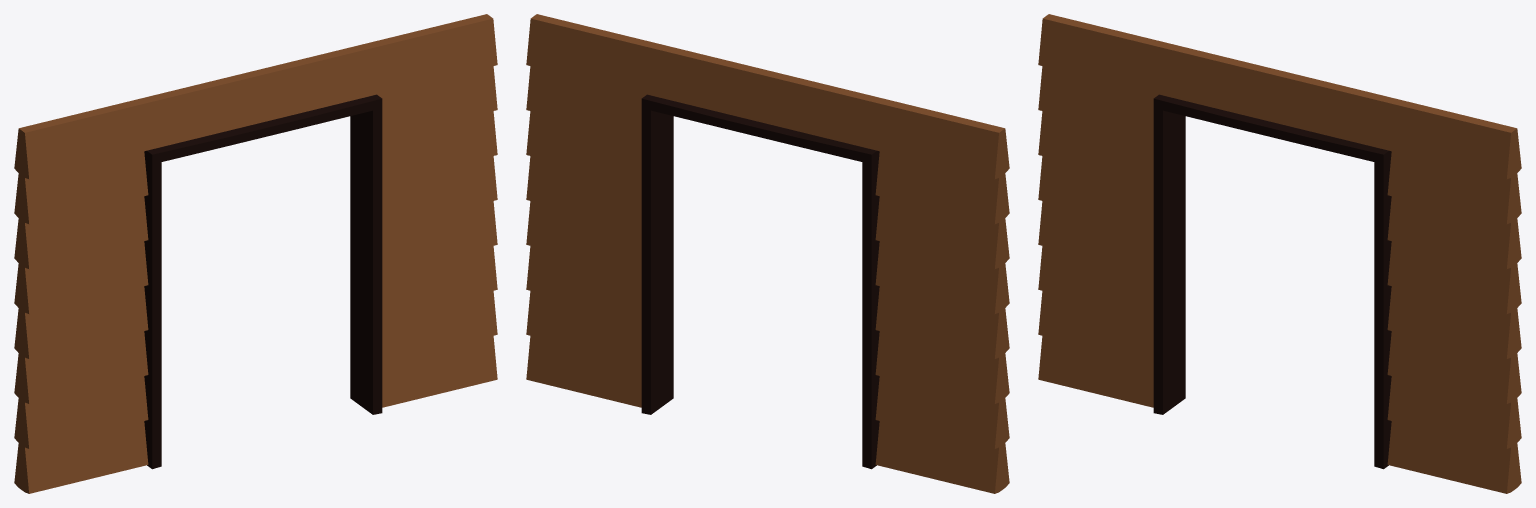
Rendered from ww_saloon_door_a.glb.
3 renders of one model, left to right at view 1: azimuth 30°, elevation 25°; view 2: azimuth 150°, elevation 25°; view 3: azimuth 330°, elevation 25°, orthographic.
Parts seen in each view (by area): view 1: Saloon_Door_A; view 2: Saloon_Door_A; view 3: Saloon_Door_A.
Boxes of the visible parts, x1,y1,x2,y2 form: Saloon_Door_A: [14, 14, 497, 493]; Saloon_Door_A: [526, 14, 1009, 493]; Saloon_Door_A: [1038, 14, 1521, 493].
Bounding box in the file's own units: 4.8 × 3.52 × 0.4002.
